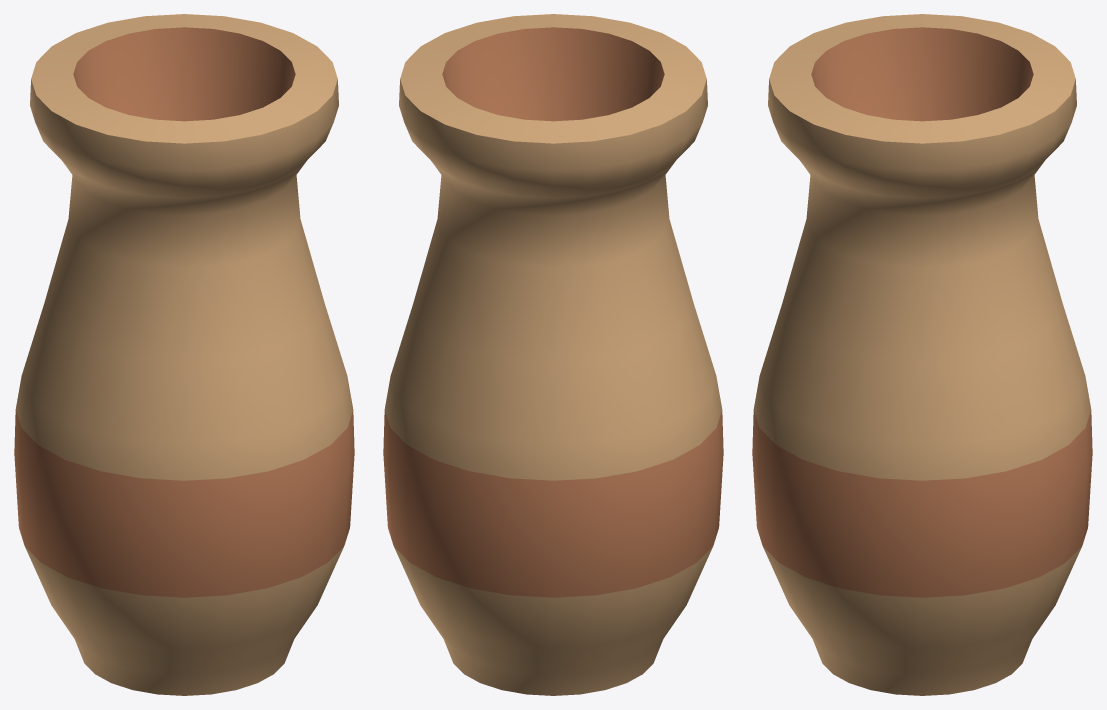
The model's file is potA_decorated.glb.
3 renders of one model, left to right at view 1: azimuth 30°, elevation 25°; view 2: azimuth 150°, elevation 25°; view 3: azimuth 270°, elevation 25°, orthographic.
Parts seen in each view (by area): view 1: potA_decorated; view 2: potA_decorated; view 3: potA_decorated.
Part boxes in pixels (<box>): potA_decorated: <box>14,14,354,695</box>; potA_decorated: <box>383,14,723,695</box>; potA_decorated: <box>752,14,1092,695</box>.
Size of the model in its own units: 0.0917 by 0.1719 by 0.0917.
